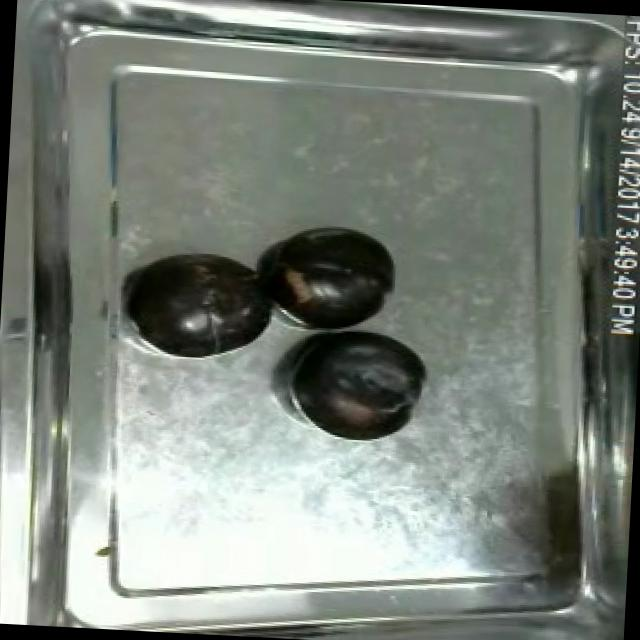Fruit: (122, 242, 284, 362), (279, 320, 432, 446), (267, 219, 402, 336)
